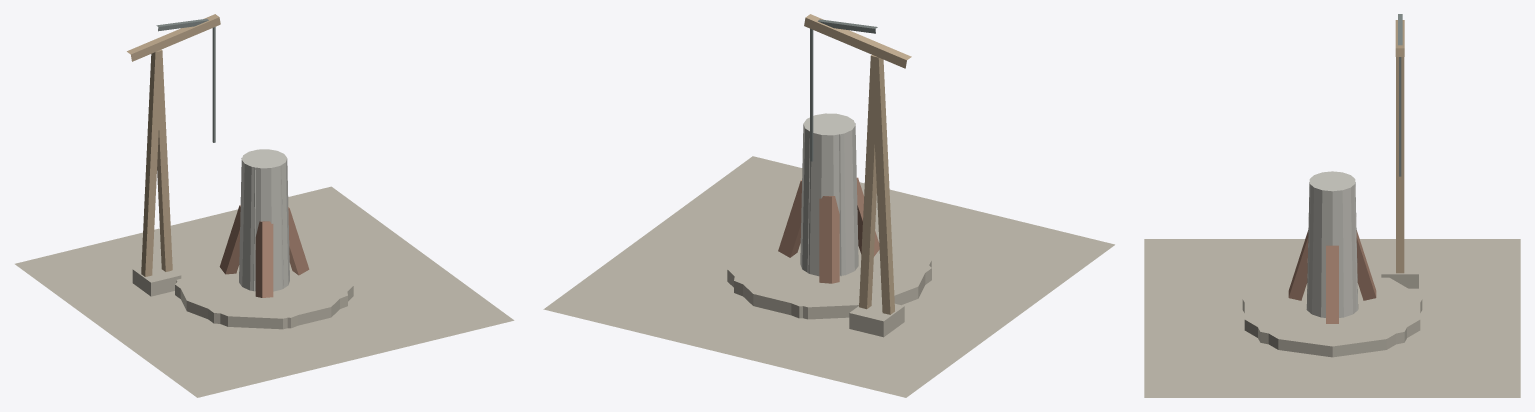
3 renders of one model, left to right at view 1: azimuth 30°, elevation 25°; view 2: azimuth 150°, elevation 25°; view 3: azimuth 270°, elevation 25°, orthographic. The views are drawn at different scales.
Parts seen in each view (by area): view 1: Near, Mid, Far; view 2: Near, Mid, Far; view 3: Near, Mid, Far.
Part boxes in pixels (left/top/right/bottom): Near: left=15, top=14, right=514, bottom=397; Mid: left=175, top=149, right=347, bottom=328; Far: left=180, top=150, right=341, bottom=315; Near: left=543, top=14, right=1114, bottom=397; Mid: left=734, top=114, right=931, bottom=318; Far: left=742, top=113, right=930, bottom=303; Near: left=1144, top=14, right=1520, bottom=397; Mid: left=1242, top=172, right=1422, bottom=345; Far: left=1245, top=173, right=1419, bottom=337.
Size of the model in its own units: 4 by 3.13 by 4.
